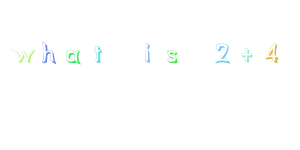+: (238, 46, 257, 69)
2: (210, 39, 231, 73)
4: (260, 39, 285, 67)
a: (62, 45, 82, 66)
h: (39, 42, 59, 69)
i: (136, 33, 158, 75)
s: (162, 36, 182, 70)
t: (89, 43, 111, 68)
w: (10, 41, 35, 68)
